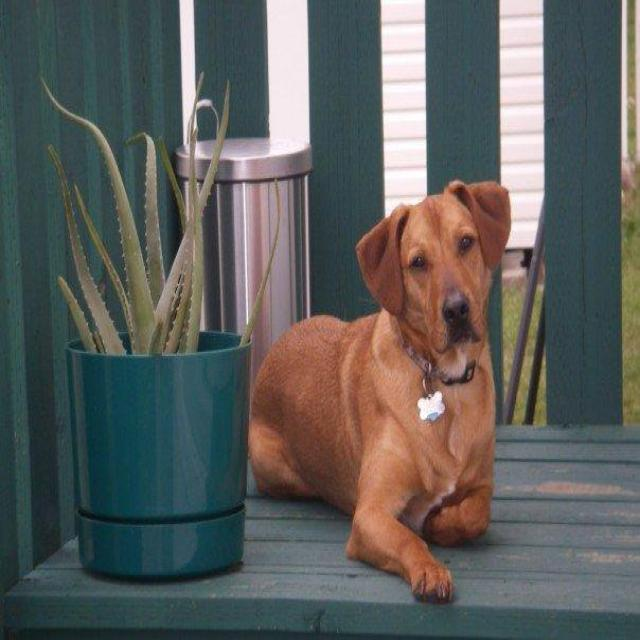rhodesian_ridgeback: (245, 176, 510, 604)
